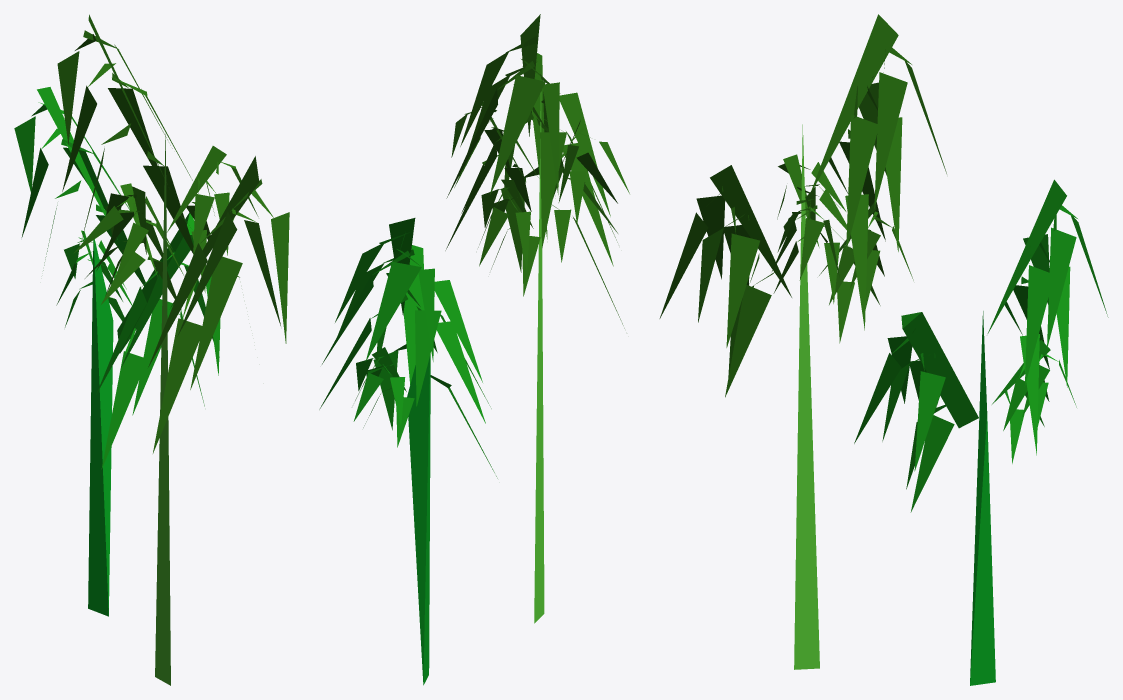
3 renders of one model, left to right at view 1: azimuth 30°, elevation 25°; view 2: azimuth 150°, elevation 25°; view 3: azimuth 270°, elevation 25°, orthographic. The views are drawn at different scales.
Parts seen in each view (by area): view 1: 立方体.072, 立方体.094; view 2: 立方体.072, 立方体.094; view 3: 立方体.072, 立方体.094.
Part boxes in pixels (bbox=[...]): 立方体.072: bbox=[14, 14, 289, 469]; 立方体.094: bbox=[88, 134, 170, 685]; 立方体.072: bbox=[319, 14, 629, 478]; 立方体.094: bbox=[407, 92, 544, 685]; 立方体.072: bbox=[659, 14, 1108, 512]; 立方体.094: bbox=[794, 124, 995, 685].
Size of the model in its own units: 374 by 1149 by 732.
